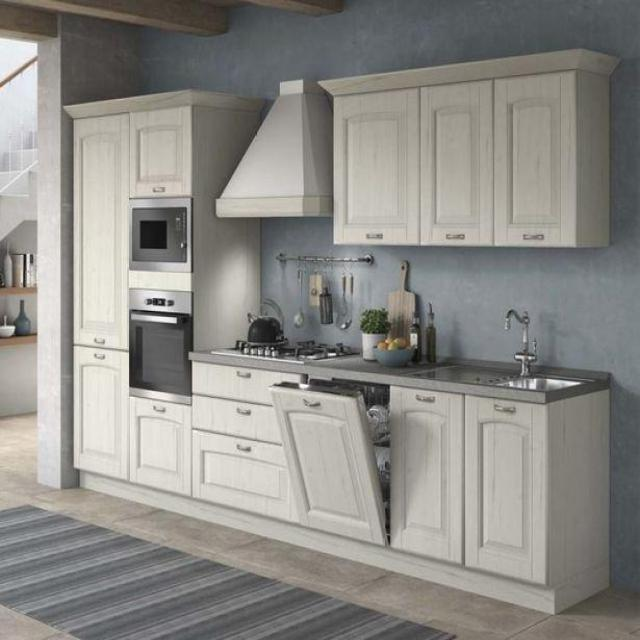dishwasher: (266, 370, 394, 554)
